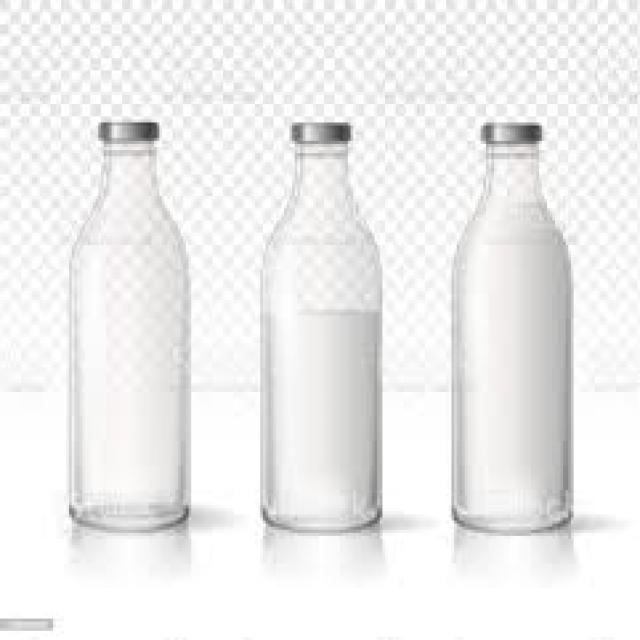Glass-Non-Biodegradable but Recyclable-: (255, 121, 386, 533), (66, 121, 190, 539)
